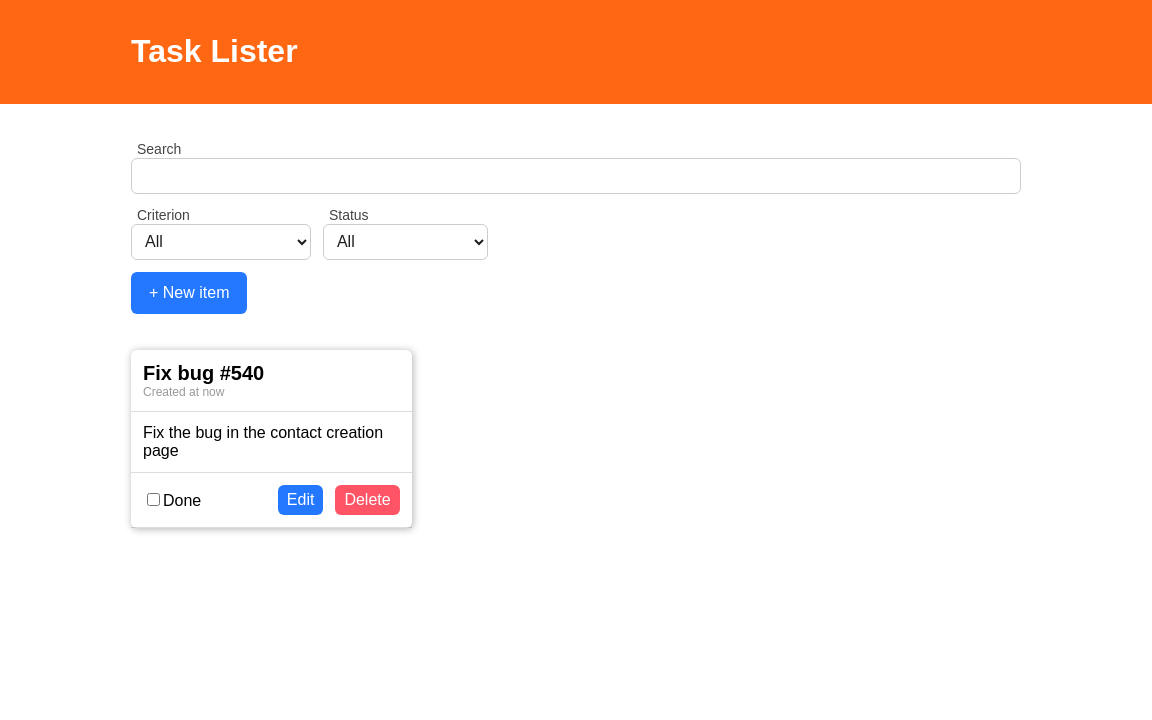
it: App › Shows a "no match" message when no items match the search filters
The image size is (1152, 720).
Type "nonexistent" into the field labelled "Search".
click(576, 176); type("nonexistent")  # box [131,158,1021,194]
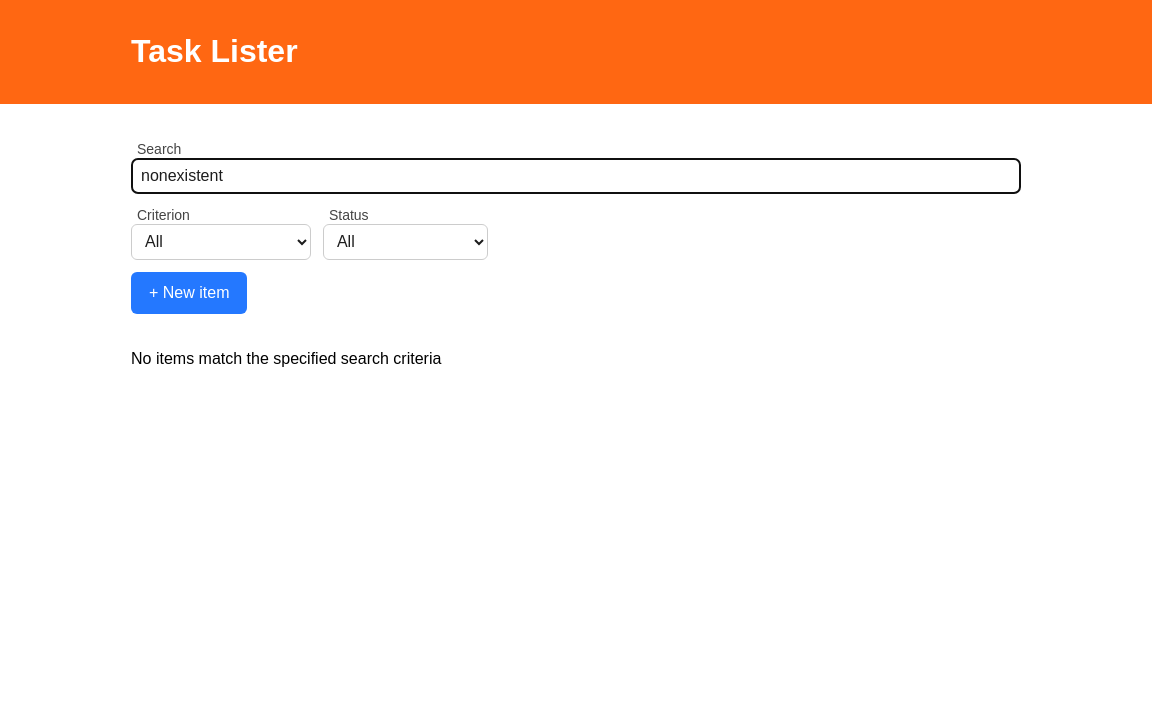
Now the text "No items match the specified search criteria" is shown, box [131,350,441,367]
